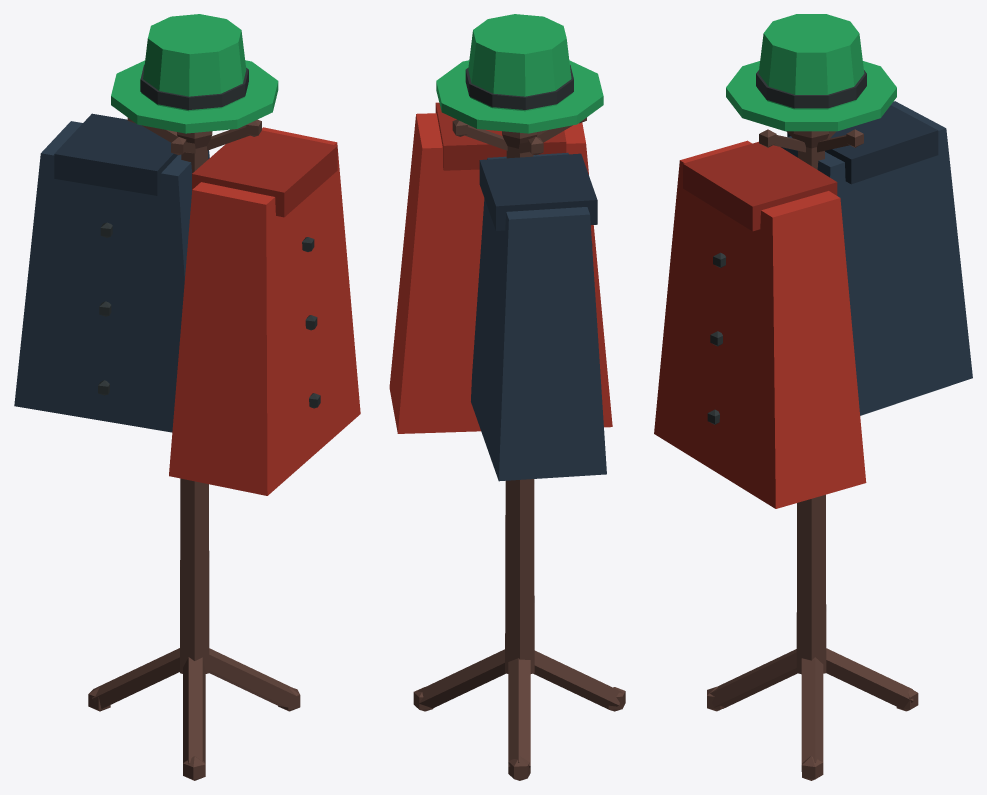
Rendered from coatRack.glb.
3 renders of one model, left to right at view 1: azimuth 30°, elevation 25°; view 2: azimuth 150°, elevation 25°; view 3: azimuth 270°, elevation 25°, orthographic.
Visible parts, largest first — view 1: coatRack-m; view 2: coatRack-m; view 3: coatRack-m.
Boxes of the visible parts, x1,y1,x2,y2 form: coatRack-m: (14,14,360,780); coatRack-m: (389,14,625,780); coatRack-m: (654,14,972,780).
Bounding box in the file's own units: 0.9519 × 2.26 × 0.9314.
